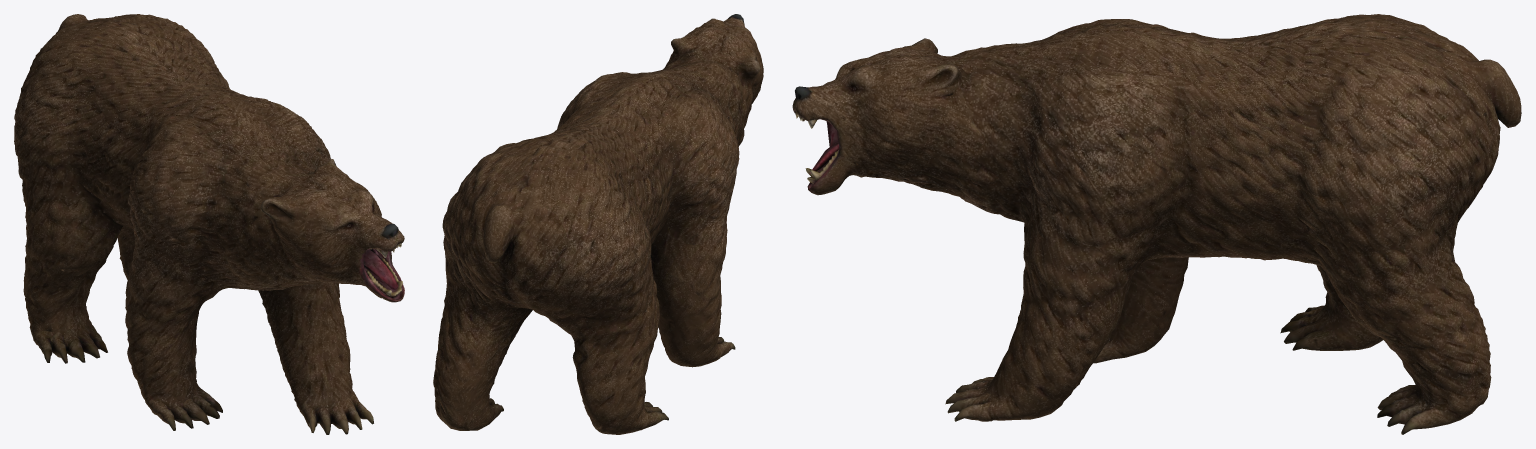
The model's file is MZ4250 - Brown Bear Updated.glb.
The picture shows the model from 3 angles, left to right: view 1: azimuth 30°, elevation 25°; view 2: azimuth 150°, elevation 25°; view 3: azimuth 270°, elevation 25°; orthographic projection. The views are drawn at different scales.
Parts seen in each view (by area): view 1: Brown Bear Updated.001; view 2: Brown Bear Updated.001; view 3: Brown Bear Updated.001.
Part boxes in pixels (left/top/right/bottom): Brown Bear Updated.001: left=14, top=14, right=404, bottom=434; Brown Bear Updated.001: left=433, top=14, right=763, bottom=434; Brown Bear Updated.001: left=792, top=14, right=1521, bottom=434.
Size of the model in its own units: 23.05 by 31.09 by 58.31.
Materials: 1 (1 with a texture image).
